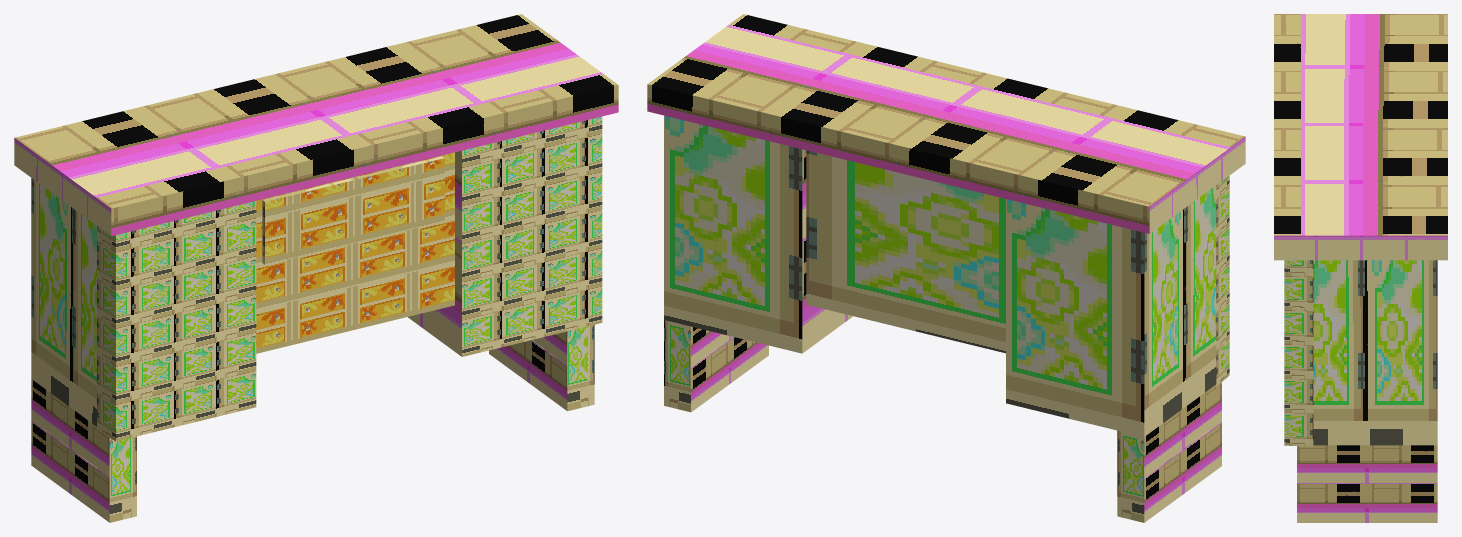
The picture shows the model from 3 angles, left to right: view 1: azimuth 30°, elevation 25°; view 2: azimuth 150°, elevation 25°; view 3: azimuth 270°, elevation 25°; orthographic projection. The views are drawn at different scales.
Parts seen in each view (by area): view 1: 3673kg_ga_cl1; view 2: 3673kg_ga_cl1; view 3: 3673kg_ga_cl1.
Boxes of the visible parts, x1,y1,x2,y2 form: 3673kg_ga_cl1: [14, 14, 618, 522]; 3673kg_ga_cl1: [647, 14, 1245, 522]; 3673kg_ga_cl1: [1274, 14, 1447, 522].
Size of the model in its own units: 1.63 by 0.999 by 0.5386.
Materials: 3 (3 with a texture image).
